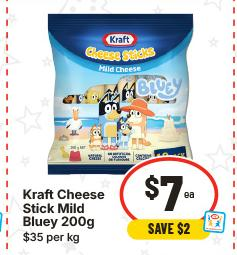description_block: (13, 181, 108, 231)
price_main: (118, 157, 220, 222)
product_image_block: (30, 7, 215, 176)
promo_text_block: (120, 215, 211, 244)
unit_price_block: (16, 228, 83, 249)
